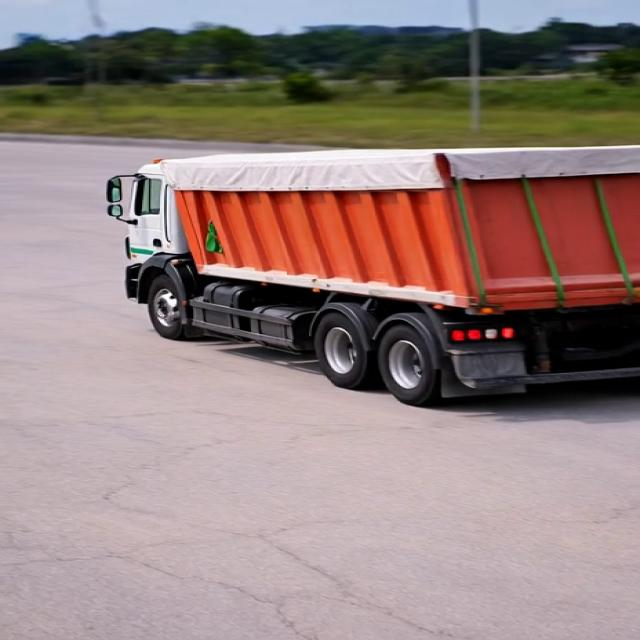trailer: (93, 146, 626, 190)
truck: (85, 122, 640, 426)
